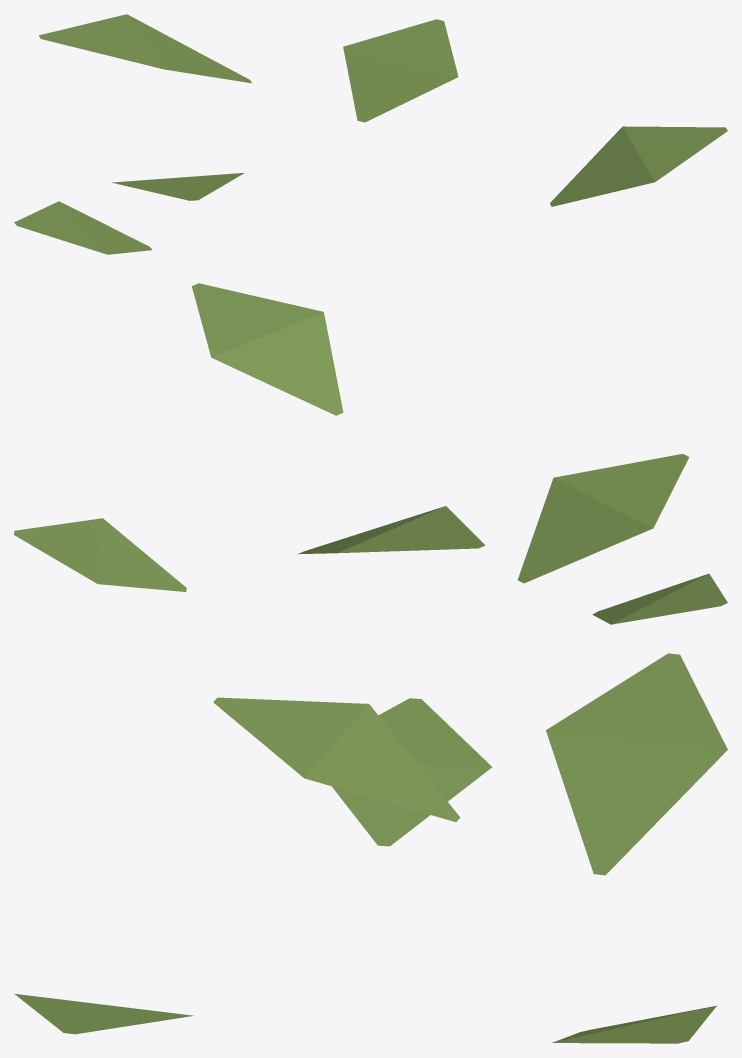
Rendered from broadleaf_lod1.glb.
3 renders of one model, top to bottom at view 1: azimuth 30°, elevation 25°; view 2: azimuth 150°, elevation 25°; view 3: azimuth 270°, elevation 25°, orthographic. The views are drawn at different scales.
Visible parts, largest first — view 1: Leaves; view 2: Leaves; view 3: Leaves.
Boxes of the visible parts, x1=… form: Leaves: x1=14, y1=14, x2=727, y2=254; Leaves: x1=14, y1=283, x2=727, y2=624; Leaves: x1=14, y1=653, x2=727, y2=1043.
Size of the model in its own units: 1.1 by 0.2425 by 0.8359.
